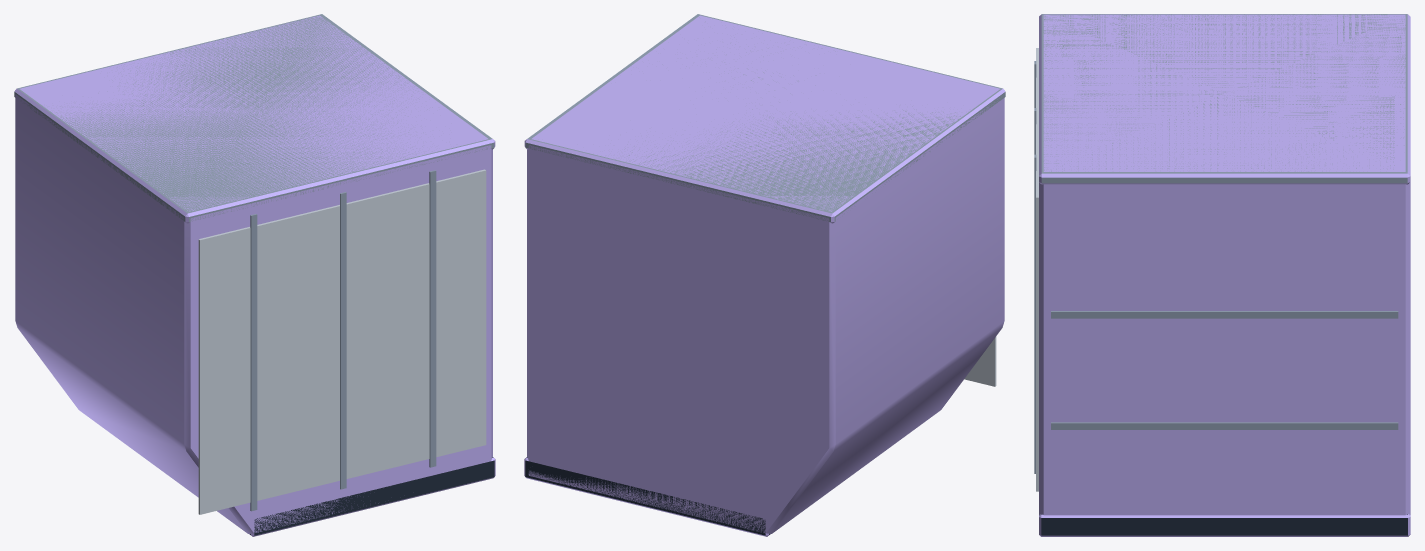
File: uld_ld3.glb
The picture shows the model from 3 angles, left to right: view 1: azimuth 30°, elevation 25°; view 2: azimuth 150°, elevation 25°; view 3: azimuth 270°, elevation 25°; orthographic projection. The views are drawn at different scales.
Parts seen in each view (by area): view 1: uld_ld3; view 2: uld_ld3; view 3: uld_ld3.
Part boxes in pixels (box(x1,y1,x2,y2)): uld_ld3: box(14, 14, 495, 536); uld_ld3: box(524, 14, 1005, 536); uld_ld3: box(1034, 14, 1410, 536).
Bounding box in the file's own units: 1.56 × 1.63 × 1.53.
